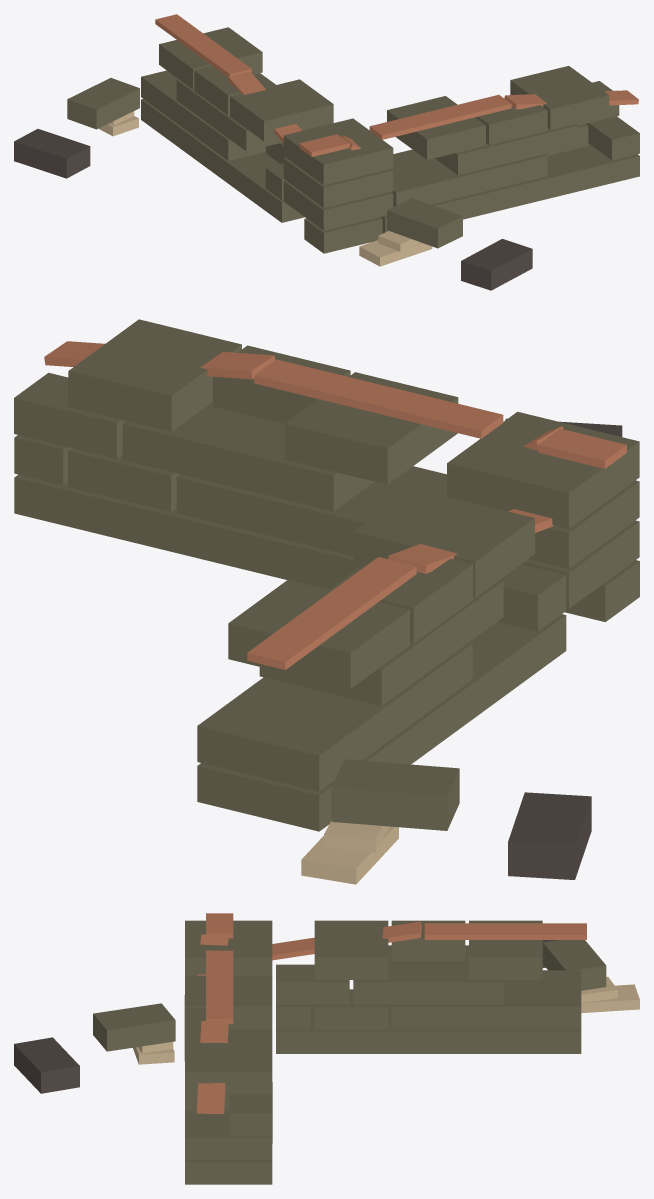
Rendered from SM_SacosEsquina_v3_Tablon_e1_Danado_LOD1.fbx.
3 renders of one model, top to bottom at view 1: azimuth 30°, elevation 25°; view 2: azimuth 150°, elevation 25°; view 3: azimuth 270°, elevation 25°, orthographic. The views are drawn at different scales.
Parts seen in each view (by area): view 1: SM_sacos_piezas_v13_LOD1; view 2: SM_sacos_piezas_v13_LOD1; view 3: SM_sacos_piezas_v13_LOD1.
Part boxes in pixels (x1,y1,x2,y2): SM_sacos_piezas_v13_LOD1: [14, 14, 639, 290]; SM_sacos_piezas_v13_LOD1: [14, 319, 639, 884]; SM_sacos_piezas_v13_LOD1: [14, 913, 639, 1184].
Size of the model in its own units: 6.31 by 1.26 by 6.89.
